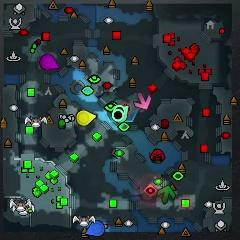p1: (85, 220, 105, 236)
p2: (115, 105, 129, 124)
p2Clone: (112, 109, 124, 121), (114, 104, 125, 114)
p3: (40, 54, 59, 70)
p4: (76, 110, 97, 126)
x1: (135, 93, 151, 110)
x4: (157, 185, 176, 204)
